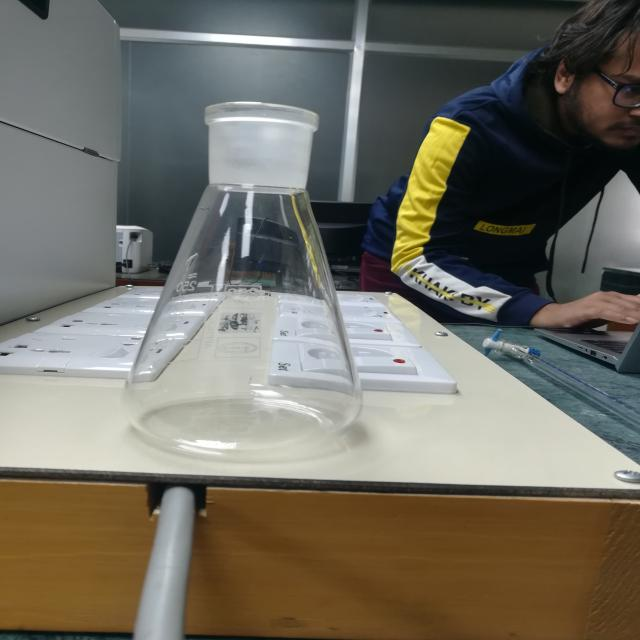Conical_Flask: (97, 47, 397, 475)
